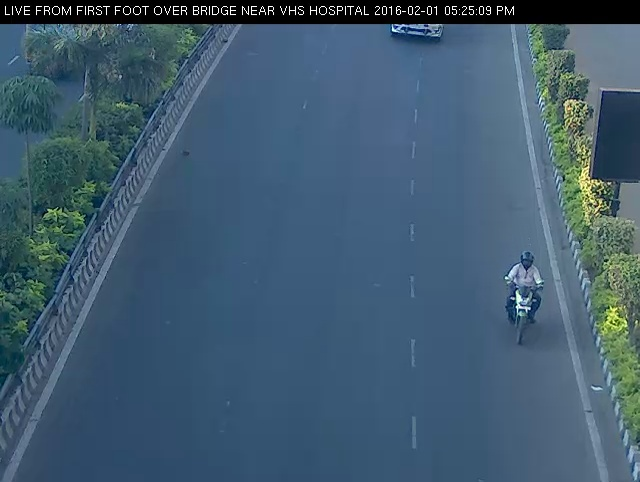Car: (379, 16, 456, 48)
Person: (495, 238, 549, 353)
